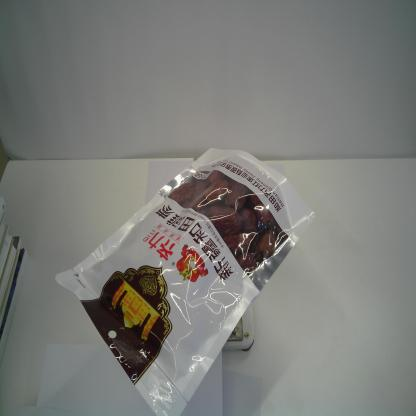Dried Food: (53, 144, 318, 416)
